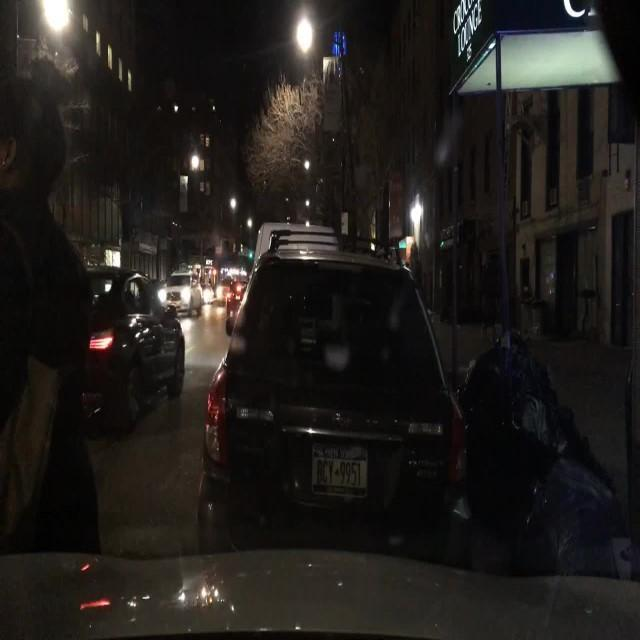normal: (200, 241, 467, 542), (84, 262, 191, 430), (160, 272, 207, 317)
